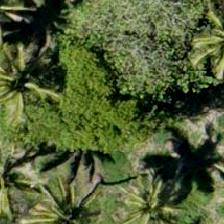Kelapa_Sawit: (124, 156, 215, 223), (0, 29, 57, 119), (2, 168, 93, 223)
